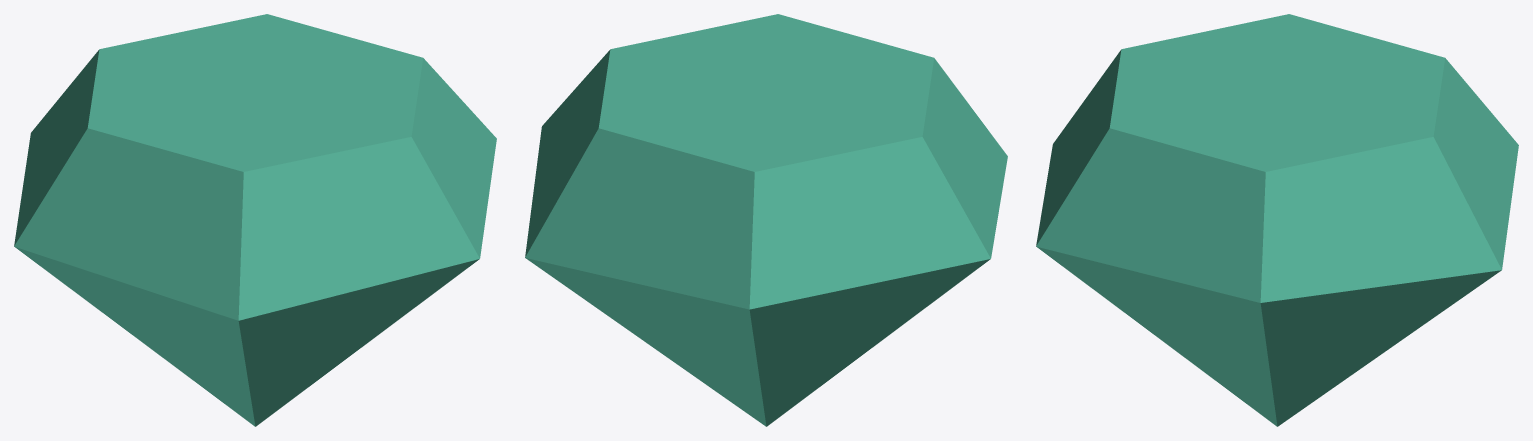
Rendered from nat_crystal_4.glb.
3 renders of one model, left to right at view 1: azimuth 30°, elevation 25°; view 2: azimuth 150°, elevation 25°; view 3: azimuth 270°, elevation 25°, orthographic.
Visible parts, largest first — view 1: nat_crystal_4; view 2: nat_crystal_4; view 3: nat_crystal_4.
Boxes of the visible parts, box(x1,y1,x2,y2) form: nat_crystal_4: box(14, 14, 496, 426); nat_crystal_4: box(525, 14, 1007, 426); nat_crystal_4: box(1036, 14, 1518, 426).
Size of the model in its own units: 1.46 by 1 by 1.31.
